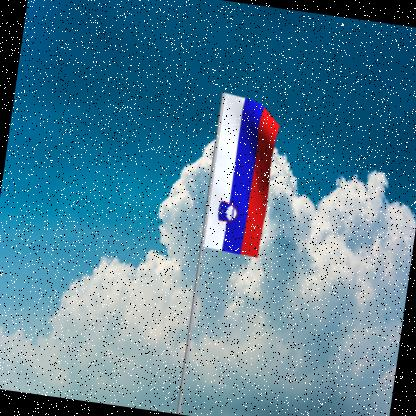si: (204, 95, 284, 260)
